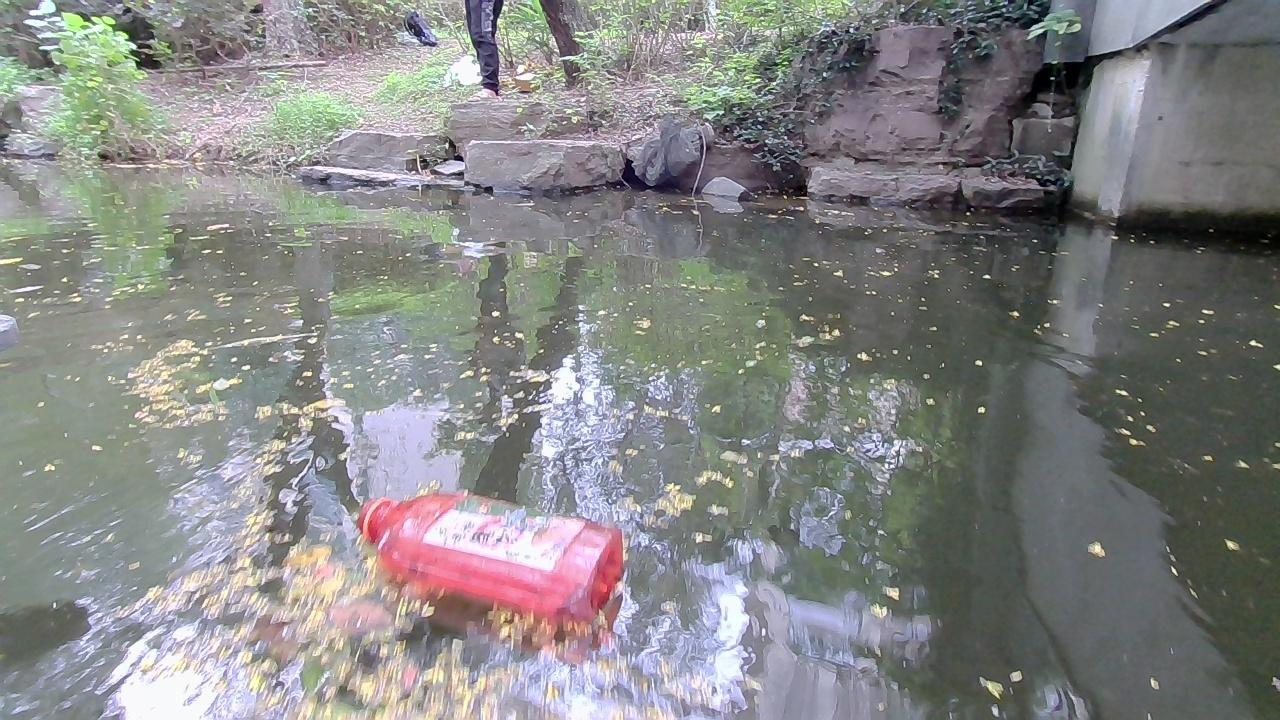bottle: (355, 486, 627, 625)
